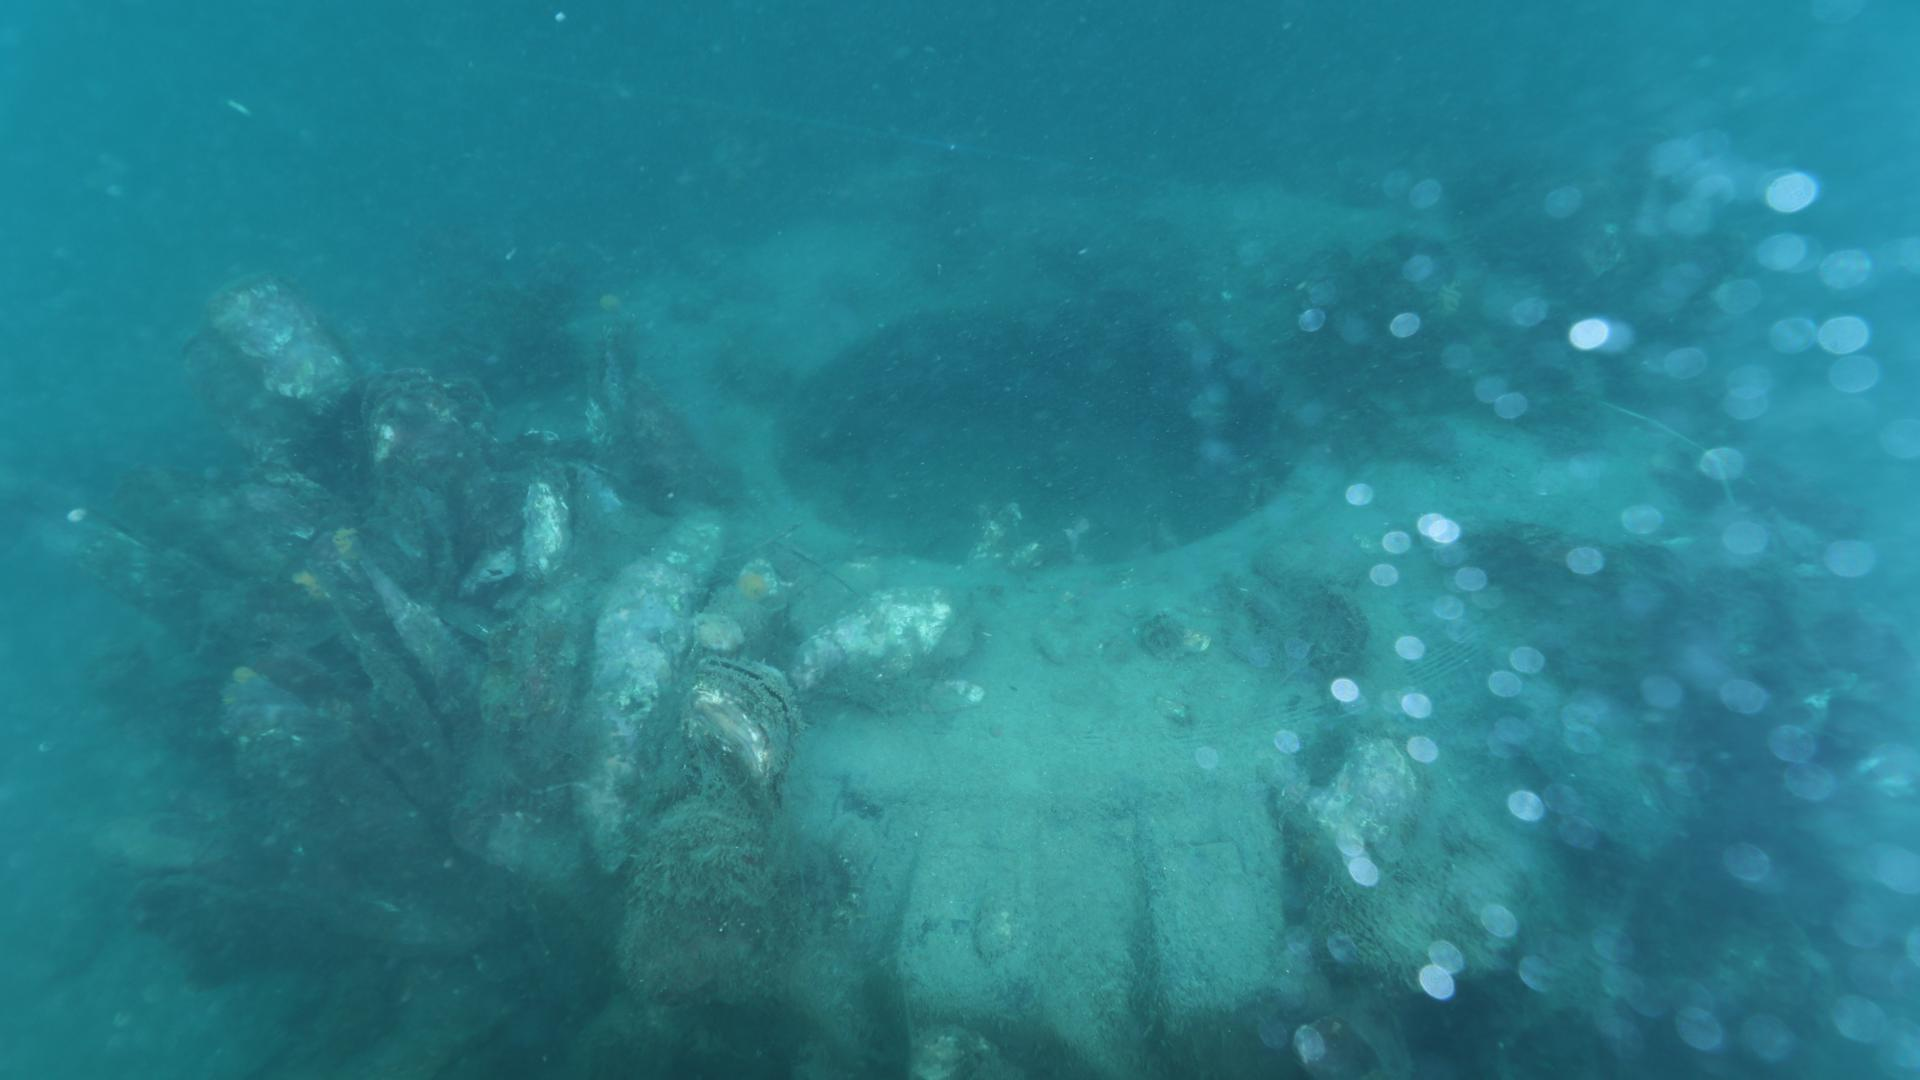tire: (491, 185, 1611, 1080)
